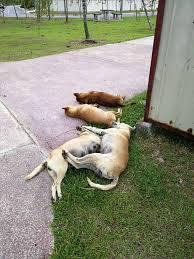normal_dogs: (25, 126, 103, 200), (82, 120, 137, 192), (60, 104, 125, 124), (72, 91, 133, 109)
